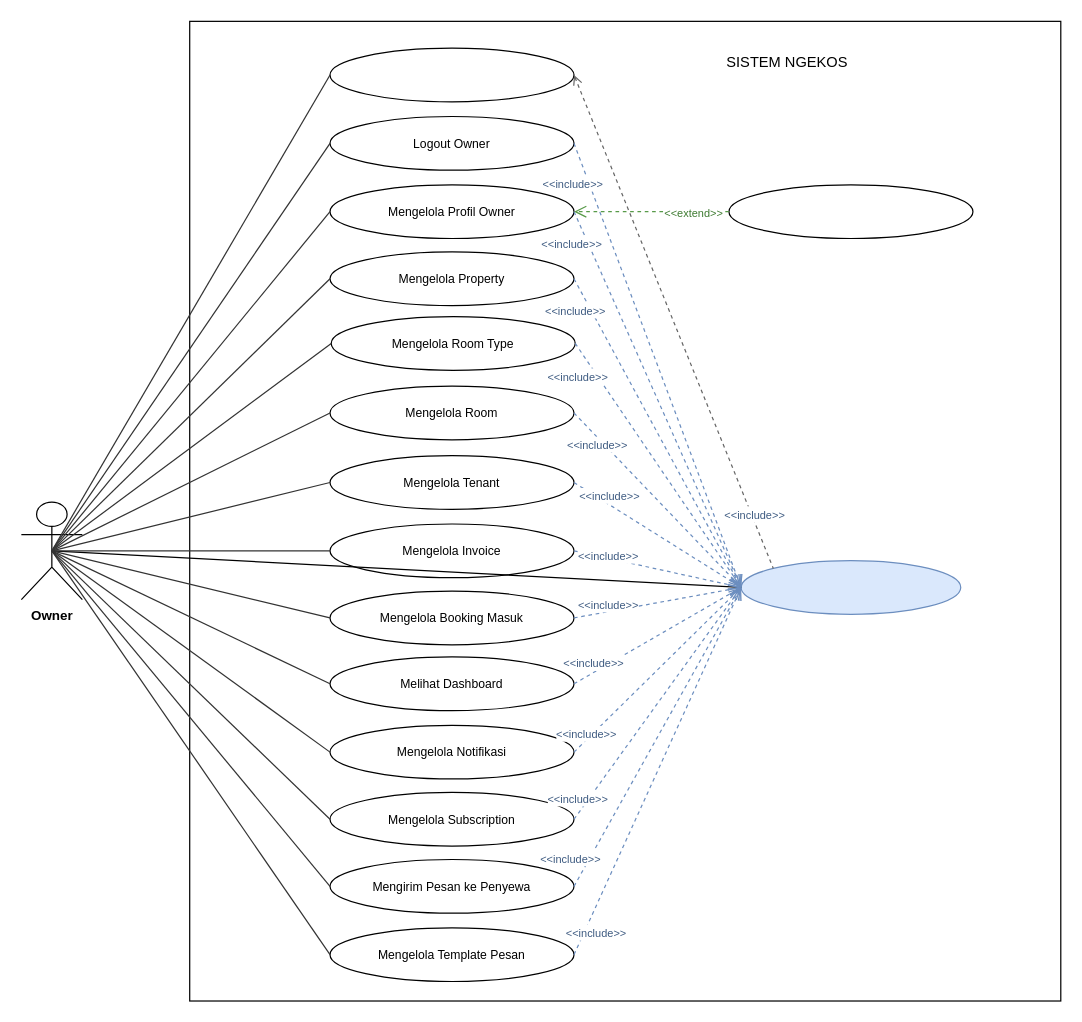
Some shapes in this 1082 by 1022 pixel diagram are drawn without their labels. The centre of each missing label's shape, as x and y in pixels:
"Login Owner" belongs at [850,586].
"Menghubungkan Akun Telegram" belongs at [850,211].
"Register Owner" belongs at [451,74].
